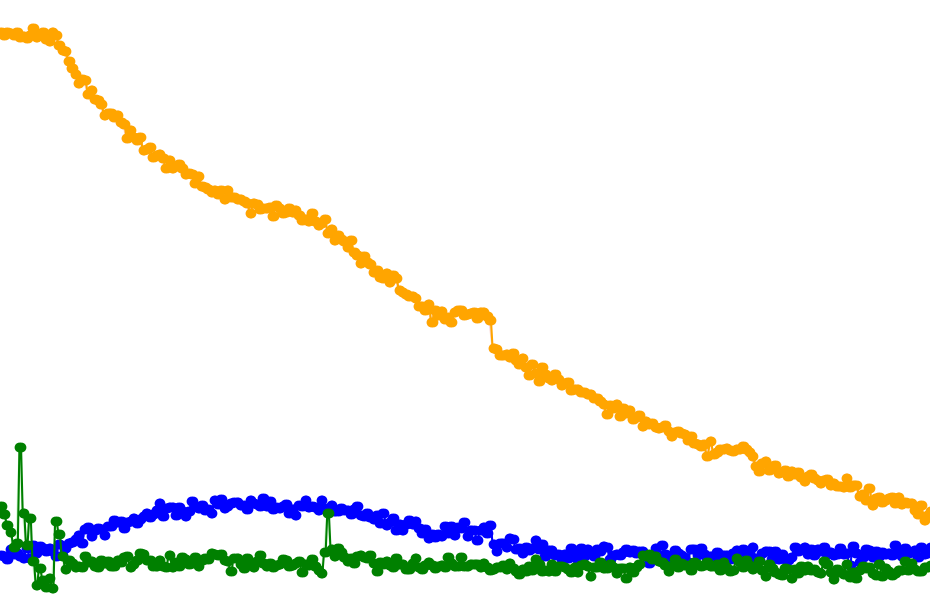CO2 Problem: (583, 0, 930, 616), (388, 0, 661, 616), (116, 0, 272, 616), (388, 0, 505, 616), (272, 0, 388, 616), (816, 0, 930, 616), (505, 0, 583, 616), (699, 0, 738, 616), (738, 0, 777, 616), (777, 0, 816, 616), (661, 0, 699, 616)
Condensation CO2: (116, 0, 272, 616), (116, 0, 233, 616), (388, 0, 505, 616), (272, 0, 388, 616), (38, 0, 116, 616)
Low CO2: (388, 0, 505, 616), (311, 0, 388, 616)
Low O2: (583, 0, 930, 616), (661, 0, 930, 616), (699, 0, 930, 616), (777, 0, 930, 616), (816, 0, 930, 616), (777, 0, 816, 616)
Normal: (388, 0, 930, 616), (0, 0, 388, 616), (583, 0, 930, 616), (388, 0, 661, 616), (0, 0, 272, 616), (116, 0, 388, 616), (661, 0, 930, 616), (388, 0, 622, 616), (699, 0, 930, 616), (388, 0, 583, 616), (738, 0, 930, 616), (116, 0, 272, 616), (777, 0, 930, 616), (116, 0, 233, 616), (388, 0, 505, 616), (0, 0, 116, 616), (272, 0, 388, 616), (816, 0, 930, 616), (38, 0, 116, 616), (505, 0, 583, 616), (583, 0, 661, 616), (0, 0, 77, 616), (661, 0, 738, 616), (699, 0, 738, 616), (738, 0, 777, 616), (661, 0, 699, 616)
O2 Problem: (388, 0, 930, 616), (738, 0, 930, 616), (116, 0, 272, 616), (388, 0, 505, 616), (272, 0, 388, 616)
